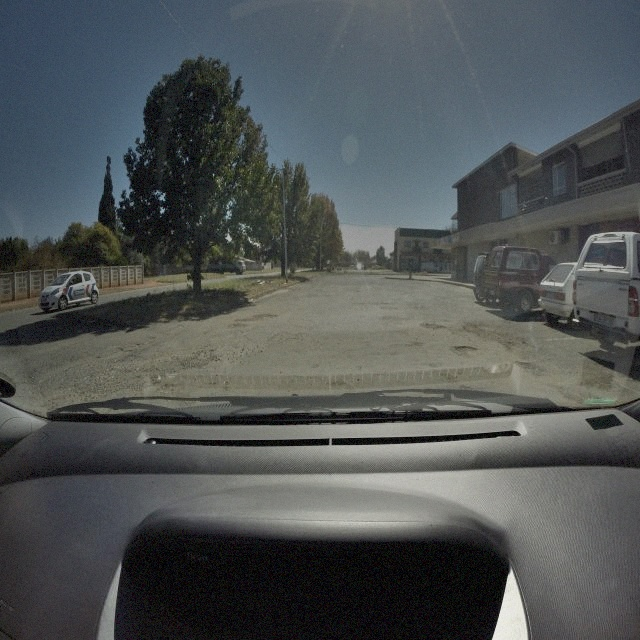pothole: (462, 320, 526, 352), (234, 310, 277, 330), (514, 358, 542, 381), (449, 341, 478, 356), (418, 319, 447, 332)
